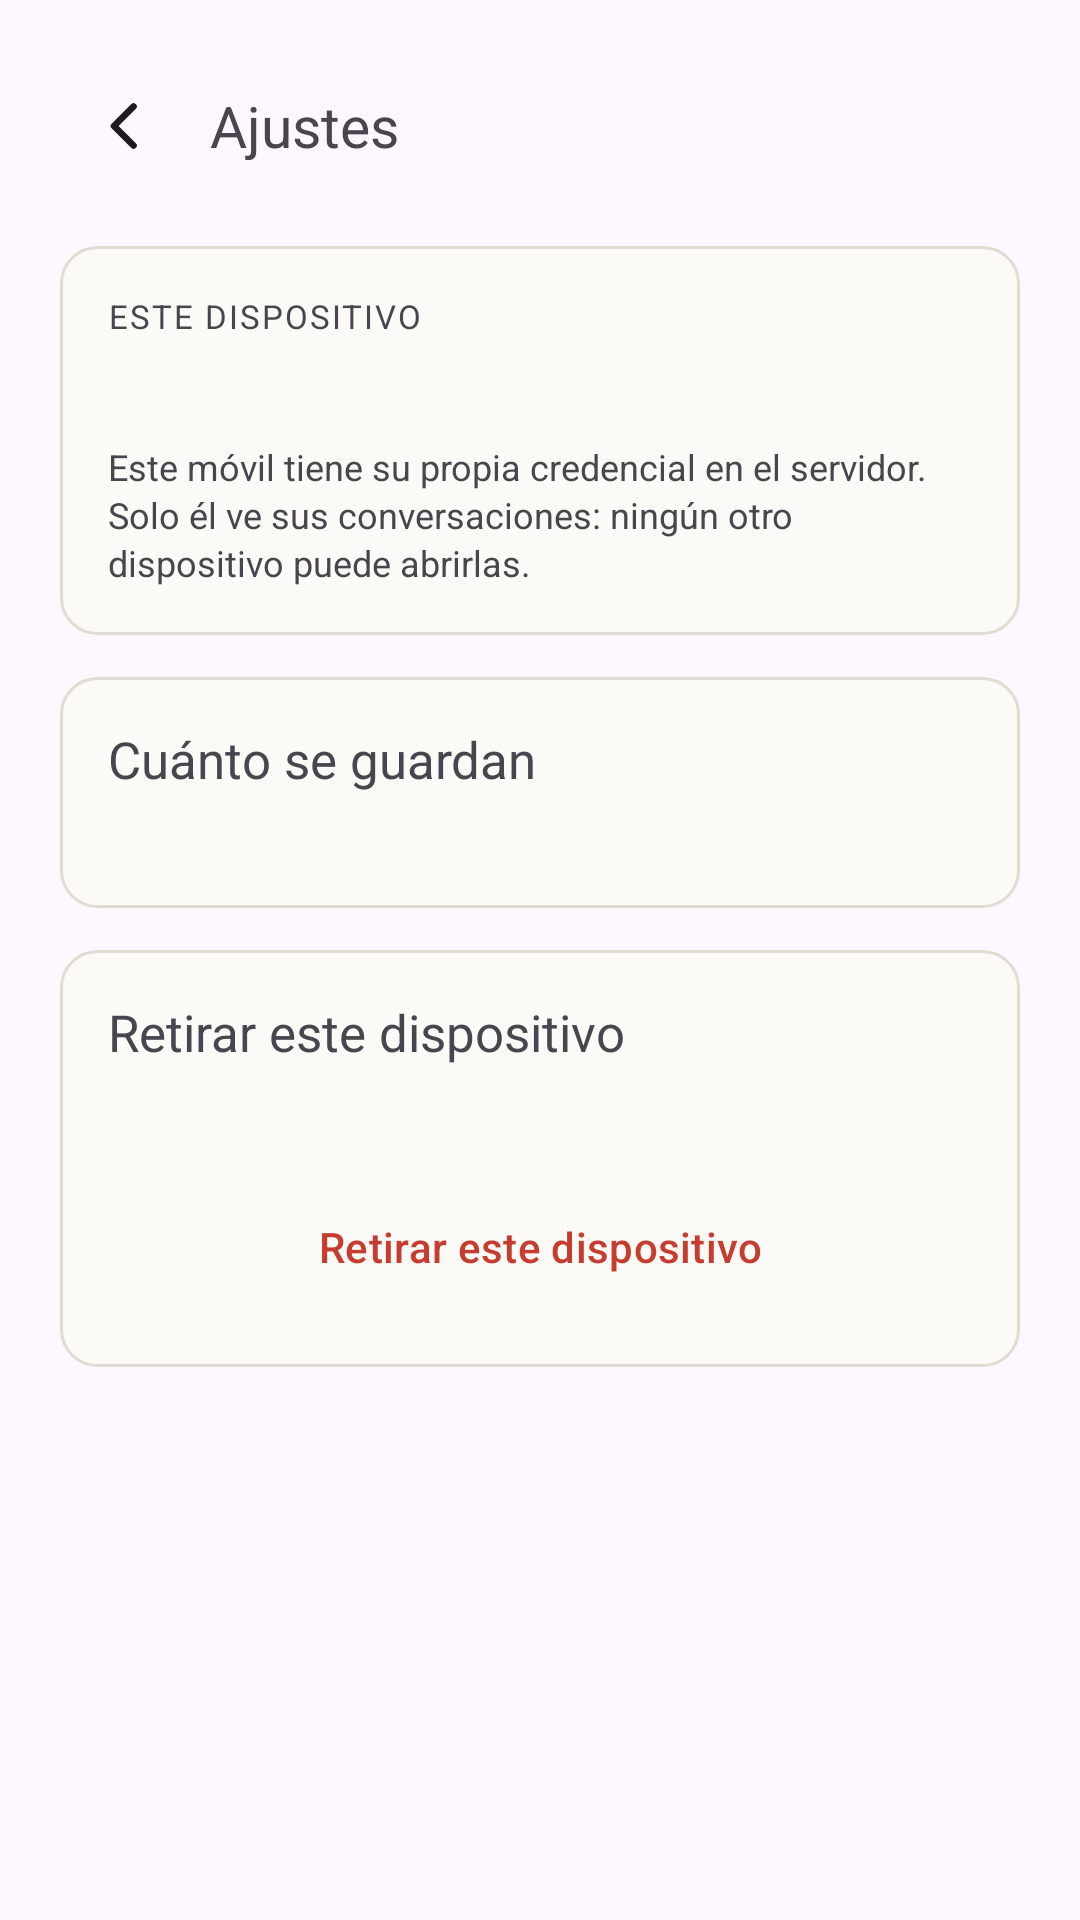

Screen size 1080 x 1920. Icon name, then its center in pixels as point (x, y):
Volver al historial: point (123, 126)
